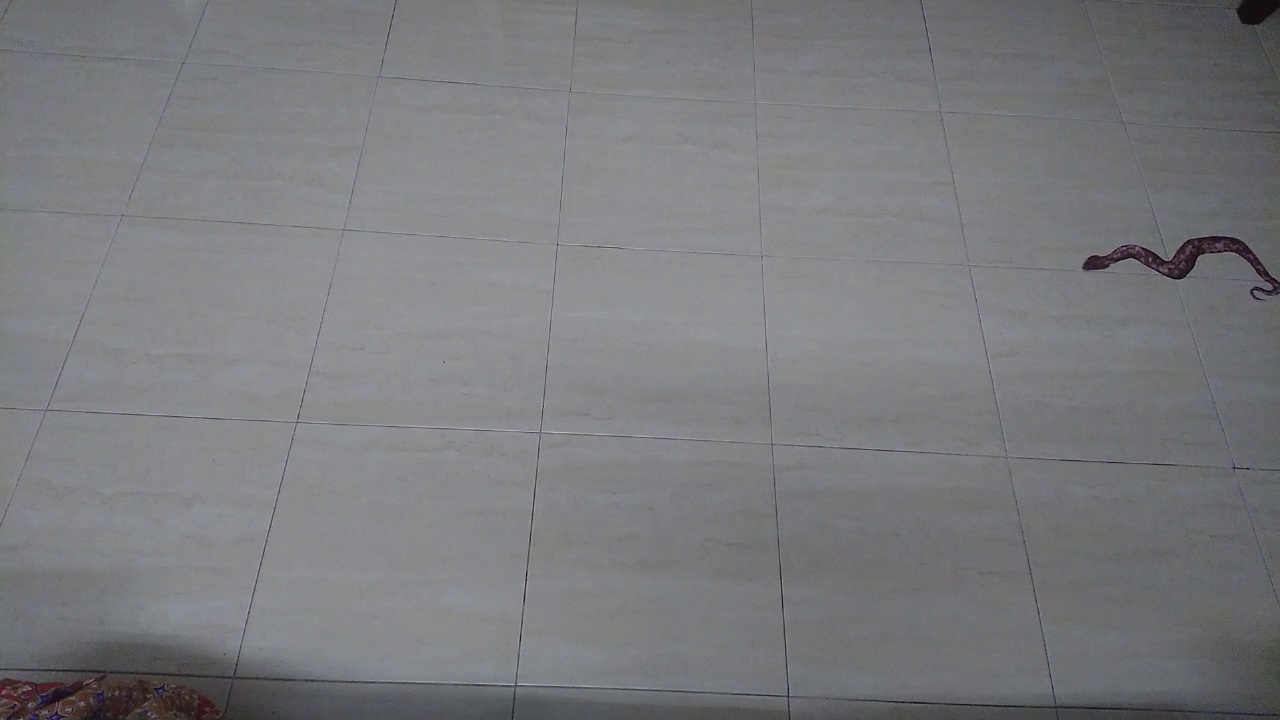snake: (1066, 226, 1280, 309)
